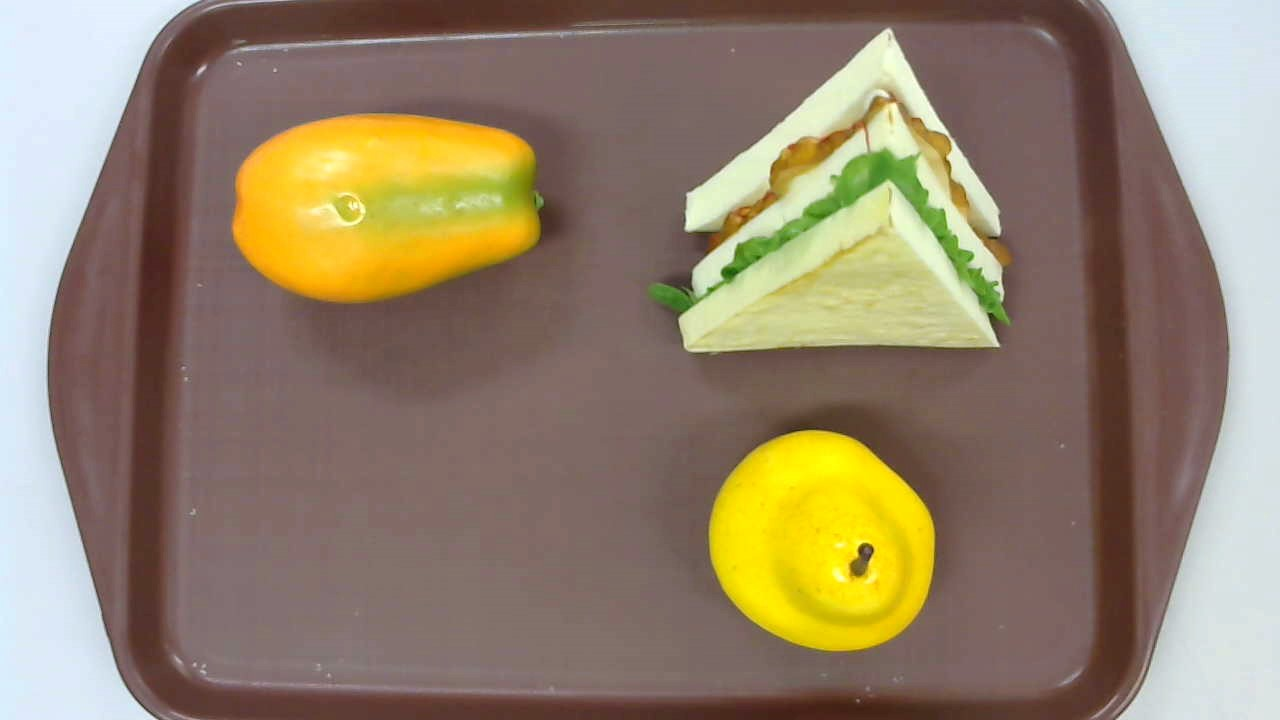papaya: (232, 112, 544, 304)
sandwich: (649, 28, 1014, 354)
yellow pear: (707, 430, 936, 652)
